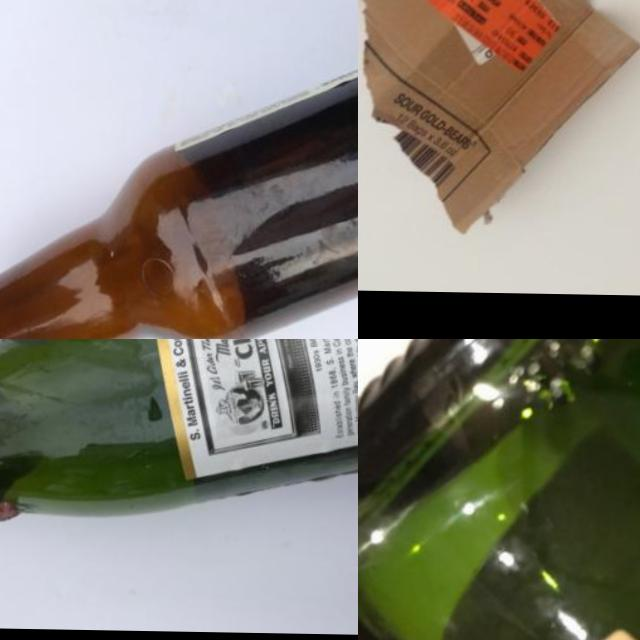garrafa de vidro: (0, 29, 358, 339), (358, 339, 640, 640), (0, 339, 358, 528)
papelão: (358, 0, 640, 234)
